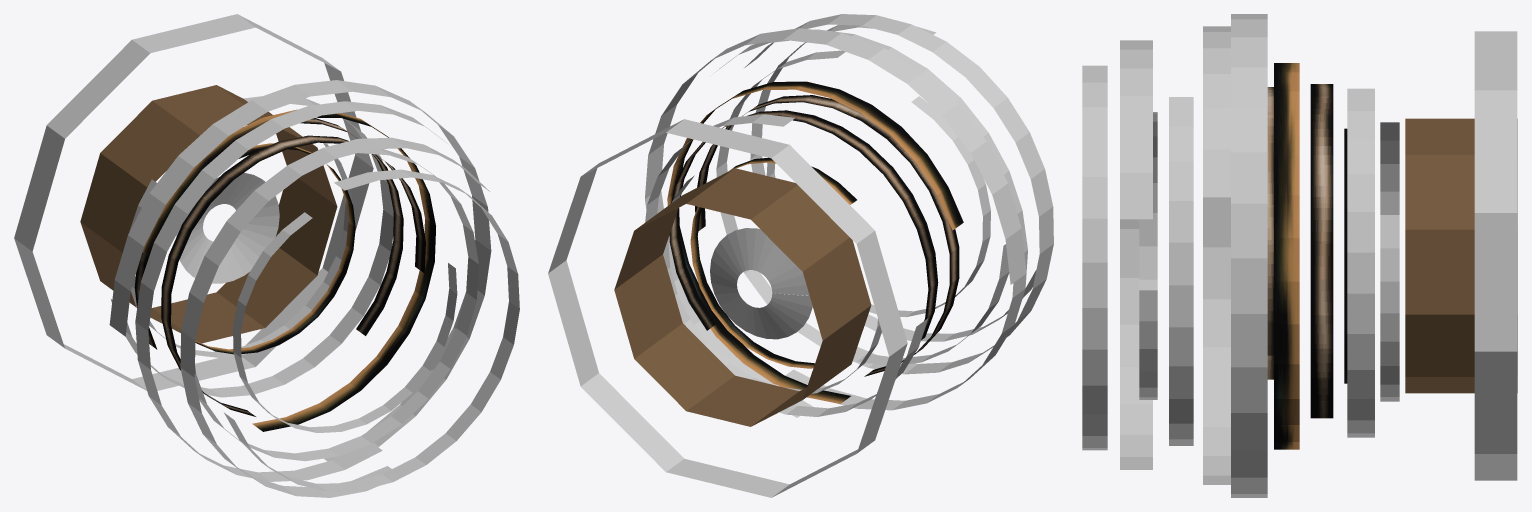
The model's file is pet_fire_light.obj.
The picture shows the model from 3 angles, left to right: view 1: azimuth 30°, elevation 25°; view 2: azimuth 150°, elevation 25°; view 3: azimuth 270°, elevation 25°; orthographic projection. The views are drawn at different scales.
Parts seen in each view (by area): view 1: Cylinder01, Cylinder02, Plane11, Plane06, Plane12, Plane02, Plane09, Plane04, Plane07, Plane10, Plane05, Plane08 (+2 smaller); view 2: Cylinder01, Cylinder02, Plane11, Plane02, Plane12, Plane04, Plane03, Plane06, Plane05, Plane07, Plane10, Plane08 (+2 smaller); view 3: Cylinder02, Cylinder01, Plane11, Plane06, Plane12, Plane04, Plane09, Plane10, Plane07, Plane03, Plane01, Plane08 (+2 smaller).
Boxes of the visible parts, x1=… form: Cylinder01: x1=80, y1=85, x2=337, y2=343; Cylinder02: x1=14, y1=14, x2=373, y2=390; Plane11: x1=109, y1=80, x2=491, y2=461; Plane06: x1=135, y1=101, x2=447, y2=481; Plane12: x1=180, y1=137, x2=489, y2=497; Plane02: x1=176, y1=143, x2=355, y2=354; Plane09: x1=224, y1=169, x2=519, y2=491; Plane04: x1=142, y1=109, x2=435, y2=431; Plane07: x1=194, y1=149, x2=478, y2=461; Plane10: x1=111, y1=96, x2=393, y2=397; Plane05: x1=161, y1=135, x2=425, y2=416; Plane08: x1=233, y1=212, x2=457, y2=432; Cylinder01: x1=614, y1=168, x2=871, y2=426; Cylinder02: x1=548, y1=119, x2=907, y2=497; Plane11: x1=645, y1=28, x2=1026, y2=417; Plane02: x1=690, y1=157, x2=856, y2=368; Plane12: x1=744, y1=14, x2=1053, y2=374; Plane04: x1=667, y1=81, x2=963, y2=403; Plane03: x1=669, y1=110, x2=938, y2=340; Plane06: x1=716, y1=29, x2=1027, y2=410; Plane05: x1=695, y1=95, x2=959, y2=376; Plane07: x1=716, y1=50, x2=1009, y2=365; Plane10: x1=645, y1=114, x2=928, y2=416; Plane08: x1=766, y1=96, x2=990, y2=316; Cylinder02: x1=1474, y1=31, x2=1517, y2=480; Cylinder01: x1=1405, y1=118, x2=1517, y2=393; Plane11: x1=1231, y1=14, x2=1267, y2=497; Plane06: x1=1203, y1=26, x2=1230, y2=484; Plane12: x1=1120, y1=40, x2=1152, y2=469; Plane04: x1=1274, y1=63, x2=1299, y2=449; Plane09: x1=1082, y1=65, x2=1107, y2=450; Plane10: x1=1347, y1=88, x2=1374, y2=437; Plane07: x1=1169, y1=97, x2=1193, y2=445; Plane03: x1=1310, y1=84, x2=1333, y2=418; Plane01: x1=1380, y1=122, x2=1399, y2=401; Plane08: x1=1139, y1=112, x2=1157, y2=399.
Size of the model in its own units: 80.25 by 79.75 by 71.91.
